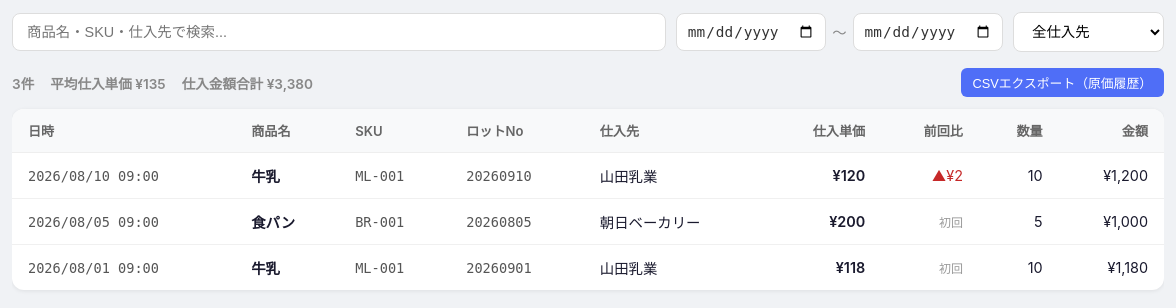
it: CostHistoryView — 絞り込み › 条件クリアは絞り込み中だけ現れ、押すと全件に戻る
Expected: the button "条件クリア" is not shown
Select "朝日ベーカリー" in the dropdown named "仕入先" at (1088, 32), box [1013, 12, 1164, 52]
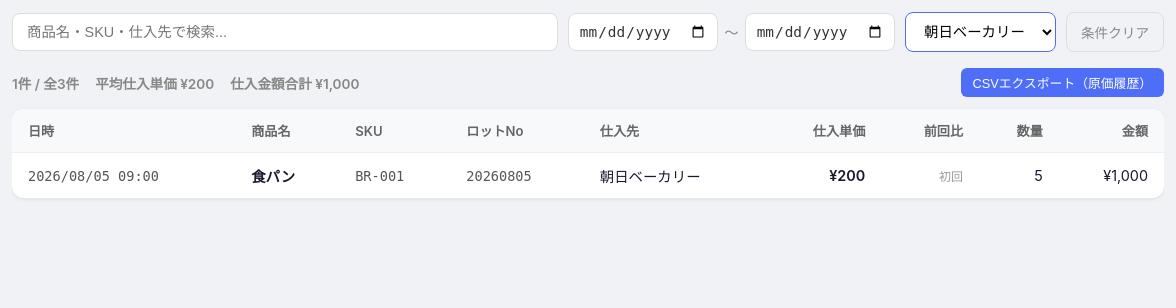
Click the button "条件クリア" at (1115, 32), box [1066, 12, 1164, 52]
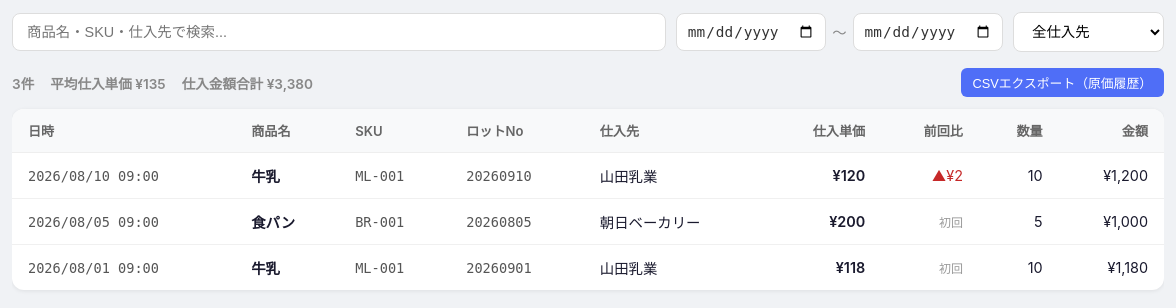
Now the button "条件クリア" is gone
